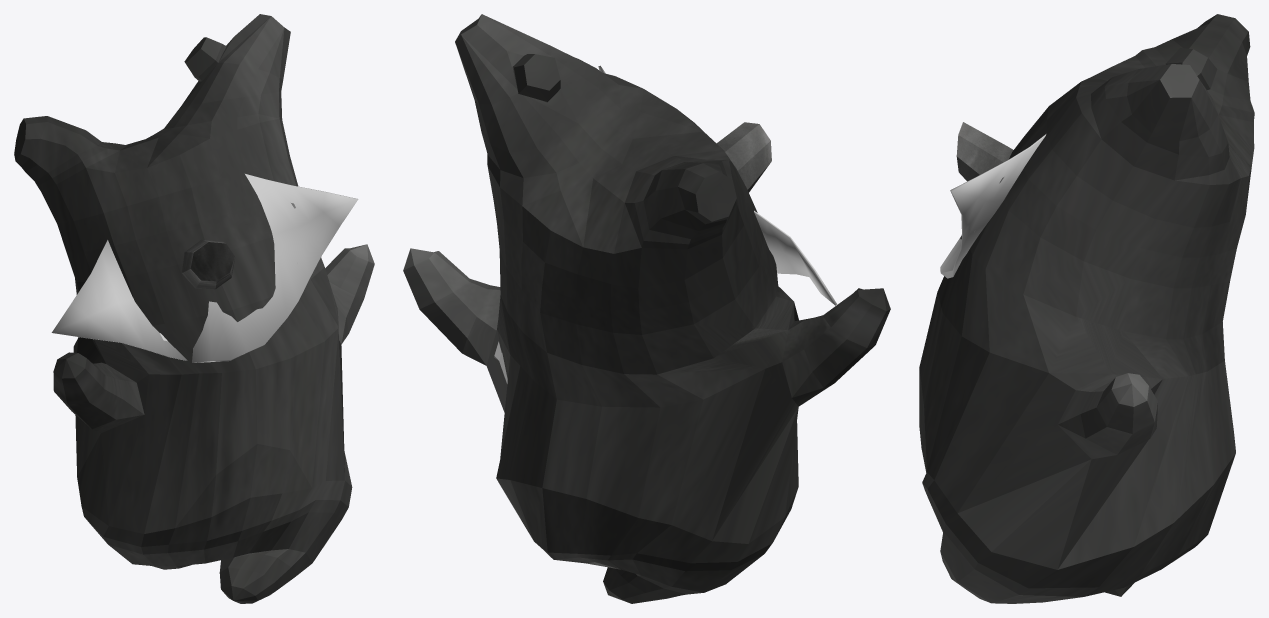
The model's file is frame_0000.obj.
3 renders of one model, left to right at view 1: azimuth 30°, elevation 25°; view 2: azimuth 150°, elevation 25°; view 3: azimuth 270°, elevation 25°, orthographic. The views are drawn at different scales.
Parts seen in each view (by area): view 1: korok, leaf, nose; view 2: korok, nose, leaf; view 3: korok, leaf, nose.
Part boxes in pixels (bbox=[...]): korok: bbox=[14, 14, 374, 603]; leaf: bbox=[51, 174, 358, 362]; nose: bbox=[182, 239, 234, 289]; korok: bbox=[403, 14, 890, 603]; nose: bbox=[717, 122, 771, 192]; leaf: bbox=[598, 65, 837, 305]; korok: bbox=[919, 14, 1254, 603]; leaf: bbox=[940, 134, 1046, 278]; nose: bbox=[956, 122, 1013, 181].
Bounding box in the file's own units: 1.72 × 2.24 × 1.16.
